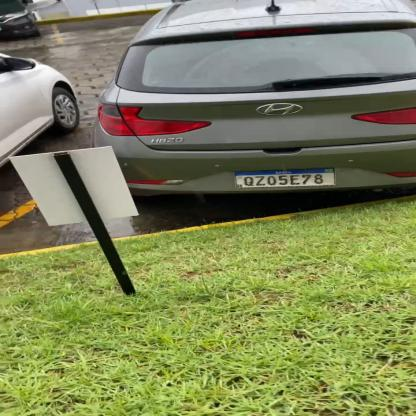Plate: (229, 166, 342, 190)
